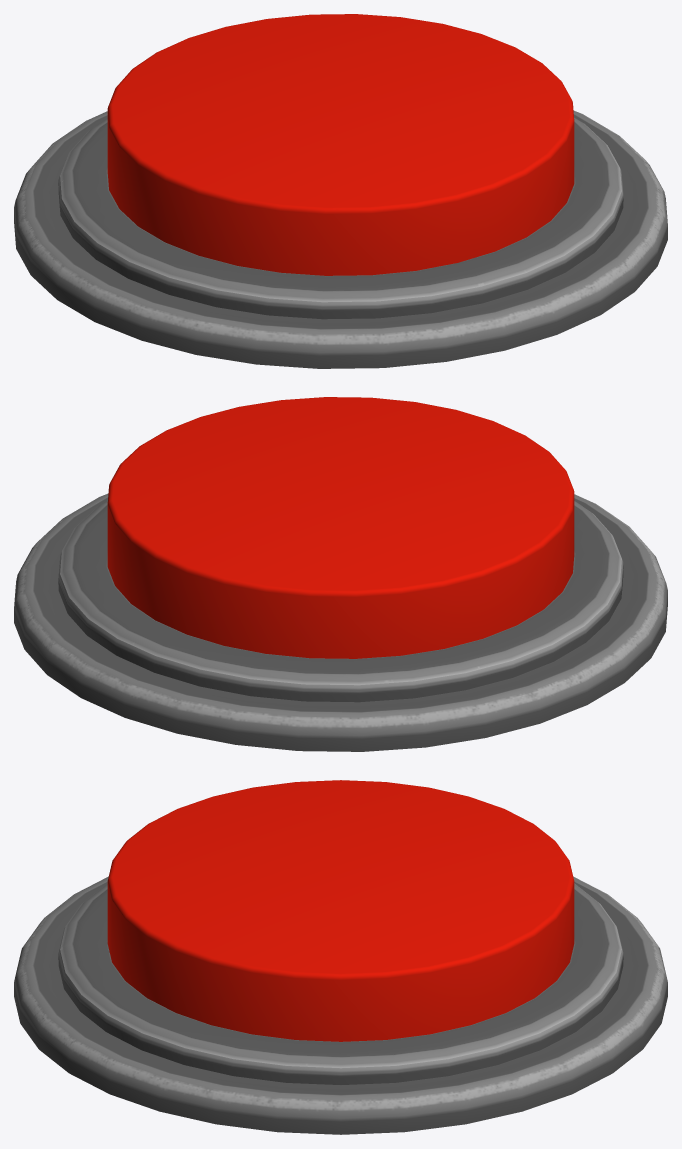
File: button.fbx
The picture shows the model from 3 angles, top to bottom: view 1: azimuth 30°, elevation 25°; view 2: azimuth 150°, elevation 25°; view 3: azimuth 270°, elevation 25°; orthographic projection.
Visible parts, largest first — view 1: butten push, butten base; view 2: butten push, butten base; view 3: butten push, butten base.
Boxes of the visible parts, box(x1,y1,x2,y2) form: butten push: box(107, 14, 574, 275); butten base: box(14, 110, 667, 368); butten push: box(107, 397, 574, 658); butten base: box(14, 493, 667, 751); butten push: box(107, 780, 574, 1041); butten base: box(14, 876, 667, 1134).
Size of the model in its own units: 180 by 36.3 by 180.
